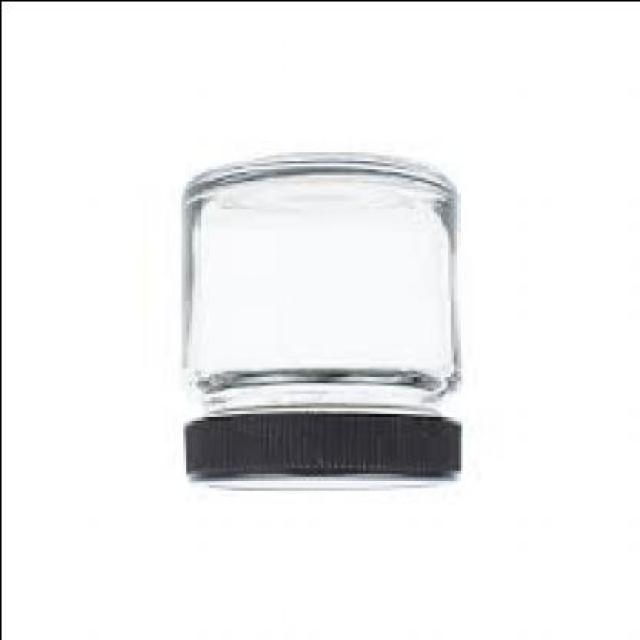GLASS: (179, 154, 458, 418)
PLASTIC: (185, 416, 464, 486)
